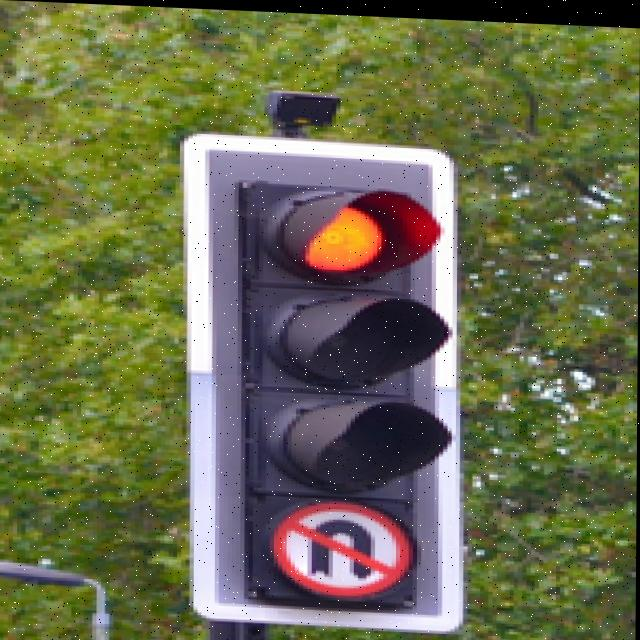light_traffic: (113, 108, 550, 628)
